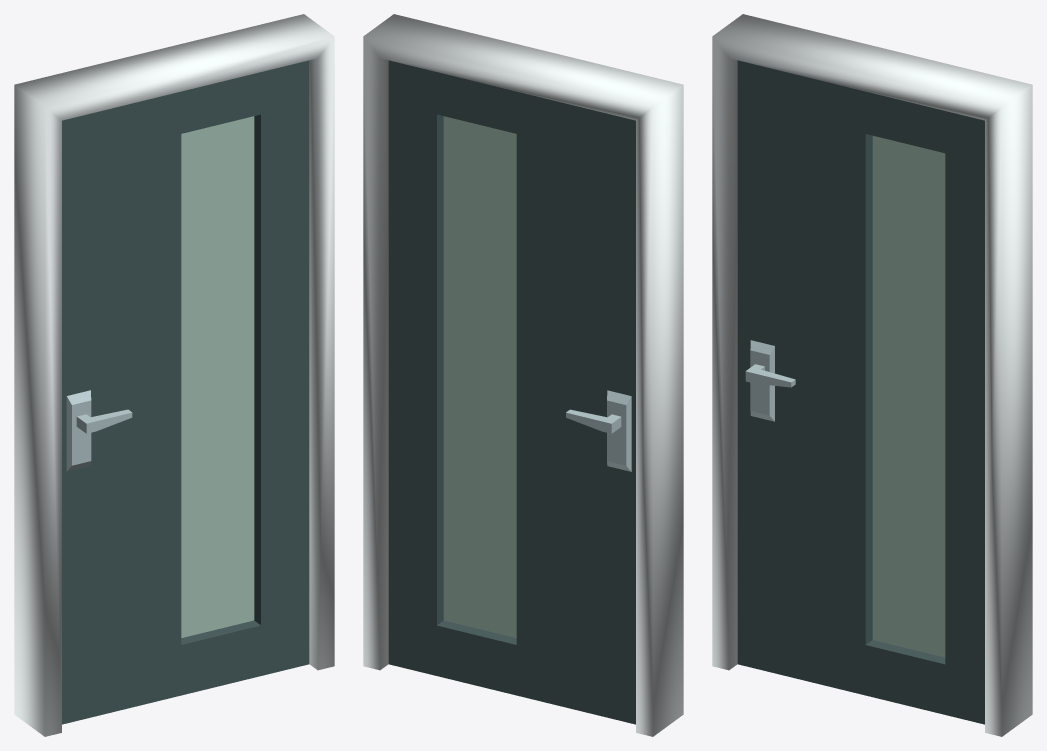
The model's file is Doorway_Front.glb.
3 renders of one model, left to right at view 1: azimuth 30°, elevation 25°; view 2: azimuth 150°, elevation 25°; view 3: azimuth 330°, elevation 25°, orthographic.
Parts seen in each view (by area): view 1: doorwayFront; view 2: doorwayFront; view 3: doorwayFront.
Part boxes in pixels (left/top/right/bottom): doorwayFront: left=14, top=14, right=334, bottom=736; doorwayFront: left=363, top=14, right=683, bottom=736; doorwayFront: left=712, top=14, right=1032, bottom=736.
Bounding box in the file's own units: 0.486 × 1.01 × 0.1134.
